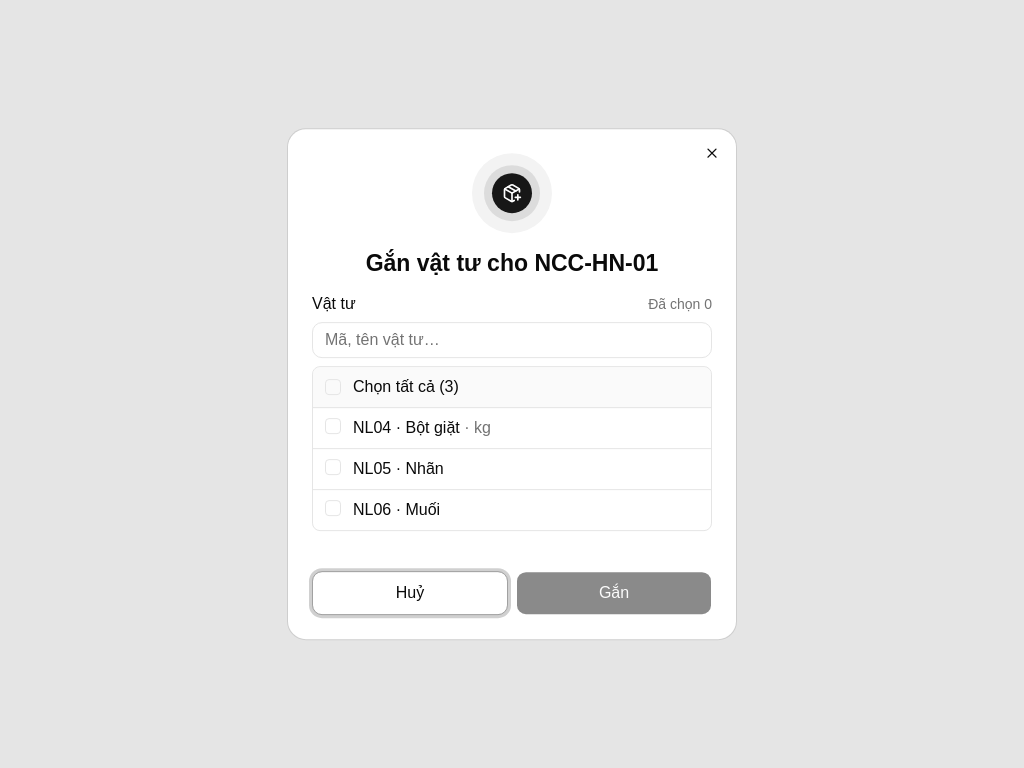
Test case: AttachSupplierMaterialDialog › "Chọn tất cả" chọn / bỏ chọn mọi vật tư đang hiện; chọn một phần → trạng thái nửa
Click the checkbox named "NL04" next to "NL04".
click(333, 426)  # box [325,418,341,434]
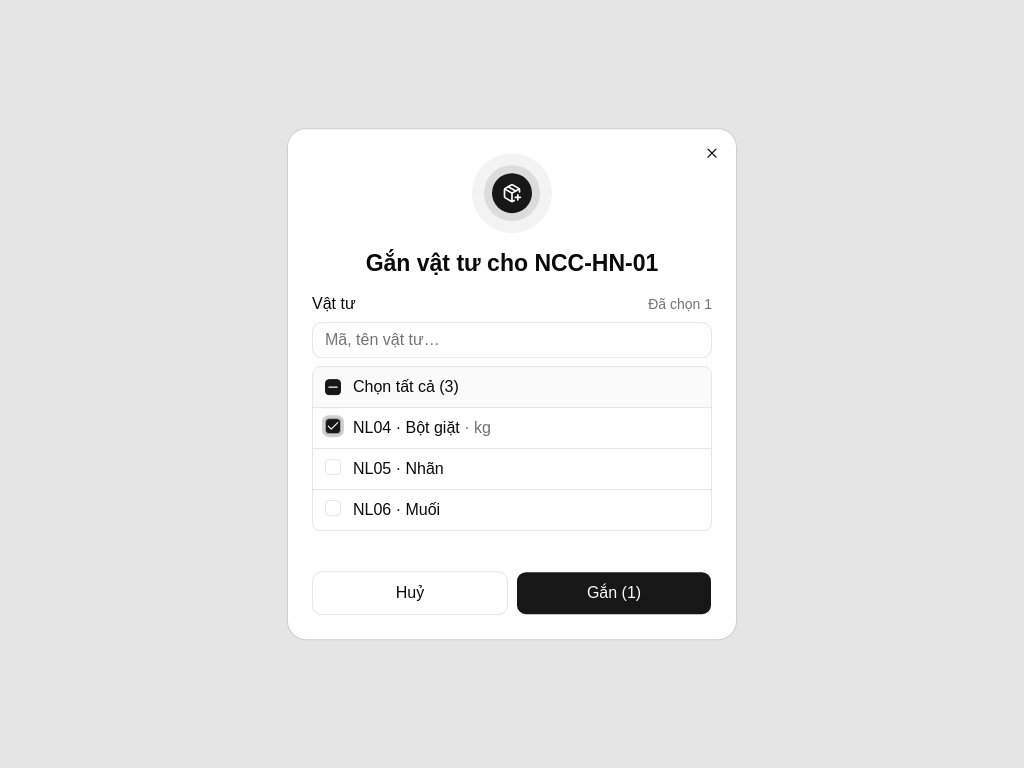
Now the checkbox named "Chọn tất cả (3)" next to "Chọn tất cả (3)" has attribute data-state="indeterminate"
Click the checkbox named "Chọn tất cả (3)" next to "Chọn tất cả (3)".
click(333, 387)  # box [325,379,341,395]
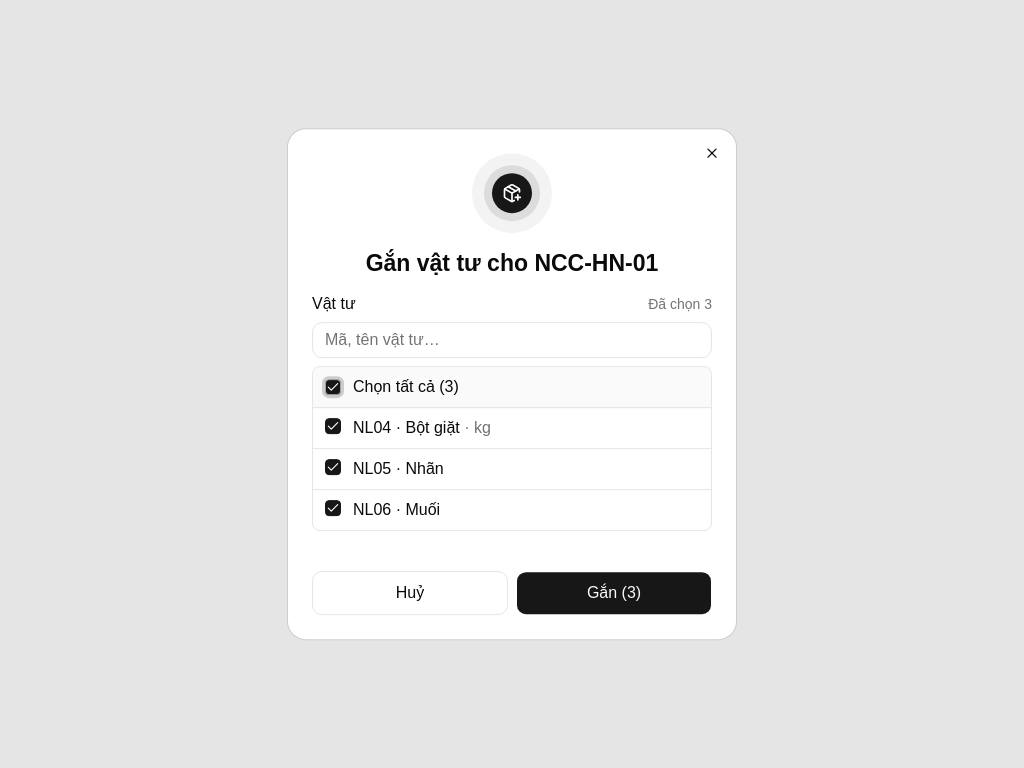
Now the text "Đã chọn 3" is shown, box [648,294,712,314]
Click the checkbox named "Chọn tất cả (3)" next to "Chọn tất cả (3)".
click(333, 387)  # box [325,379,341,395]
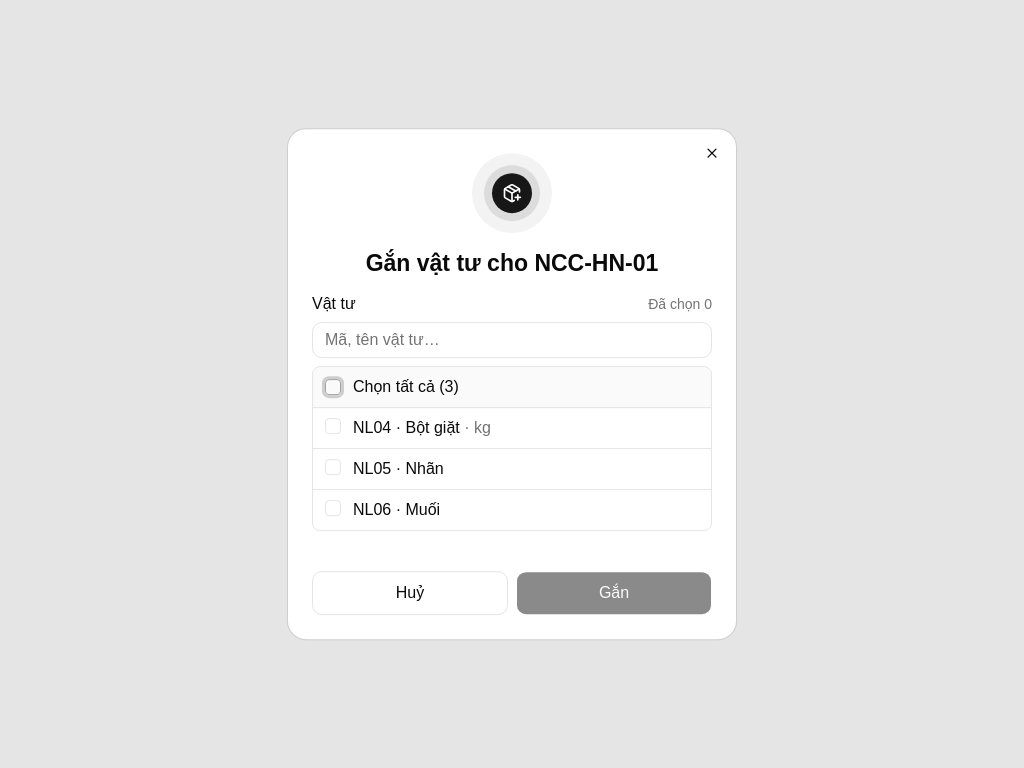
Now the text "Đã chọn 0" is shown, box [648,294,712,314]
